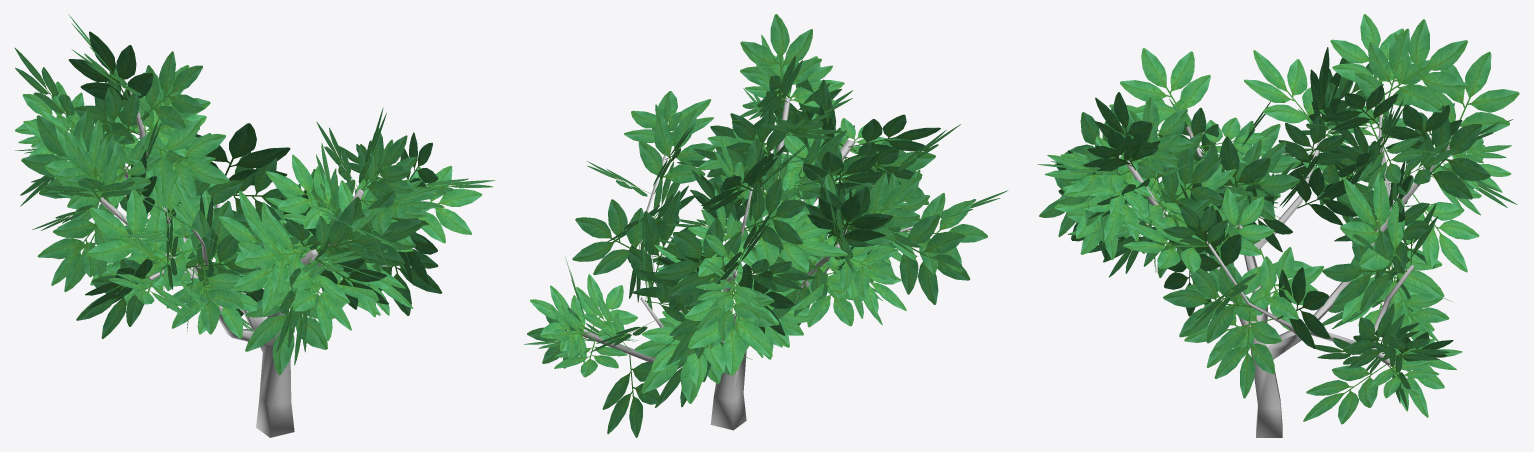
File: Bush2.fbx
3 renders of one model, left to right at view 1: azimuth 30°, elevation 25°; view 2: azimuth 150°, elevation 25°; view 3: azimuth 270°, elevation 25°, orthographic. The views are drawn at different scales.
Parts seen in each view (by area): view 1: Cube, Plane.053, Plane.117, Plane.113, Plane.125, Plane.038, Plane.010, Plane.008, Plane.013, Plane.139, Plane.144, Plane.004 (+56 smaller); view 2: Cube, Cube|Plane.003|Dupli|45, Cube|Plane.003|Dupli|100, Cube|Plane.003|Dupli|27, Plane.087, Cube|Plane.003|Dupli|82, Plane.115, Cube|Plane.003|Dupli|66, Plane.098, Cube|Plane.003|Dupli|55, Plane.074, Plane.129 (+56 smaller); view 3: Cube, Plane.112, Plane.064, Plane.129, Plane.077, Plane.083, Cube|Plane.003|Dupli|104, Plane.142, Cube|Plane.003|Dupli|125, Plane.097, Plane.089, Cube|Plane.003|Dupli|112 (+71 smaller).
Part boxes in pixels (<box>): Cube: <box>99,91,363,437</box>; Plane.053: <box>87,188,167,275</box>; Plane.117: <box>152,119,229,197</box>; Plane.113: <box>68,31,153,100</box>; Plane.125: <box>140,51,203,128</box>; Plane.038: <box>265,154,335,229</box>; Plane.010: <box>245,209,308,295</box>; Plane.008: <box>245,291,334,375</box>; Plane.013: <box>317,190,426,275</box>; Plane.139: <box>21,109,113,198</box>; Plane.144: <box>37,209,116,285</box>; Plane.004: <box>285,257,351,340</box>; Cube: <box>582,98,913,430</box>; Cube|Plane.003|Dupli|45: <box>899,214,969,304</box>; Cube|Plane.003|Dupli|100: <box>572,199,643,274</box>; Cube|Plane.003|Dupli|27: <box>740,14,821,102</box>; Plane.087: <box>684,281,779,375</box>; Cube|Plane.003|Dupli|82: <box>653,217,741,295</box>; Plane.115: <box>744,212,847,272</box>; Cube|Plane.003|Dupli|66: <box>744,178,806,253</box>; Plane.098: <box>602,355,660,437</box>; Cube|Plane.003|Dupli|55: <box>903,193,987,274</box>; Plane.074: <box>642,311,725,386</box>; Plane.129: <box>628,190,700,303</box>; Cube: <box>1126,100,1449,437</box>; Plane.112: <box>1384,19,1468,112</box>; Plane.064: <box>1120,48,1210,127</box>; Plane.129: <box>1340,172,1407,270</box>; Plane.077: <box>1423,51,1519,144</box>; Plane.083: <box>1414,105,1490,199</box>; Cube|Plane.003|Dupli|104: <box>1163,265,1252,343</box>; Plane.142: <box>1244,50,1313,123</box>; Cube|Plane.003|Dupli|125: <box>1322,231,1406,311</box>; Plane.097: <box>1303,364,1386,422</box>; Plane.089: <box>1406,194,1479,272</box>; Cube|Plane.003|Dupli|112: <box>1354,28,1430,121</box>.
Size of the model in its own units: 2881 by 2507 by 3074.
